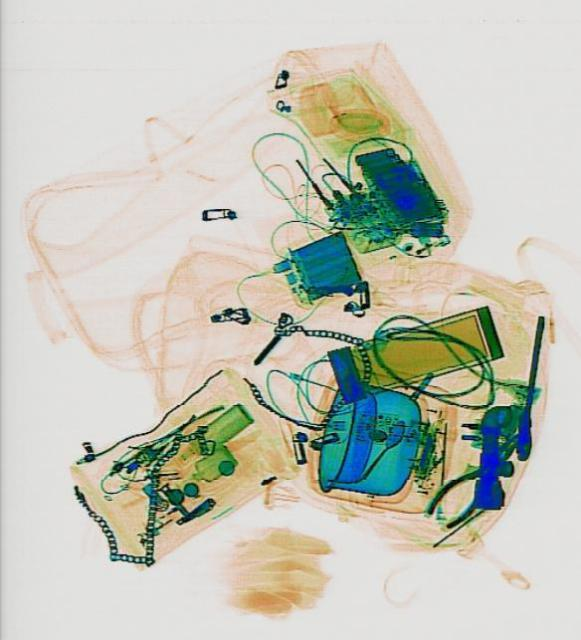Pliers: (419, 418, 535, 536)
